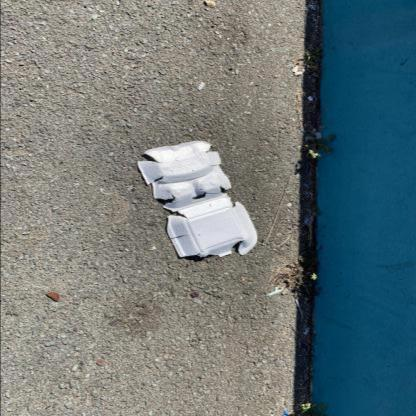Cigarette: (306, 65, 317, 69)
Other plastic: (296, 300, 303, 322), (267, 287, 283, 295), (197, 83, 205, 90)
Plastic container: (137, 141, 257, 258)
Unlabeled litter: (304, 218, 313, 223), (316, 132, 321, 139), (283, 410, 288, 416)
